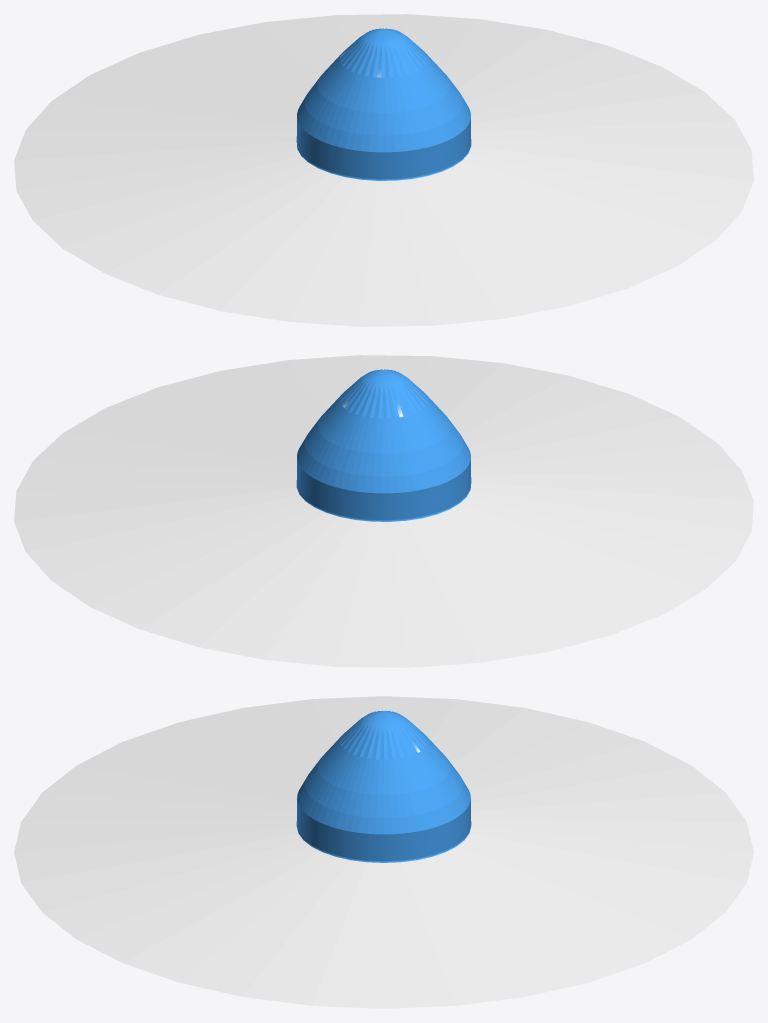
File: shipUFO.FBX
3 renders of one model, top to bottom at view 1: azimuth 30°, elevation 25°; view 2: azimuth 150°, elevation 25°; view 3: azimuth 270°, elevation 25°, orthographic.
Visible parts, largest first — view 1: Cylinder001; view 2: Cylinder001; view 3: Cylinder001.
Boxes of the visible parts, x1,y1,x2,y2 form: Cylinder001: [14, 14, 753, 326]; Cylinder001: [14, 355, 753, 667]; Cylinder001: [14, 696, 753, 1008].
Size of the model in its own units: 42.4 by 10.59 by 42.4.
1 material, 1 textured.
